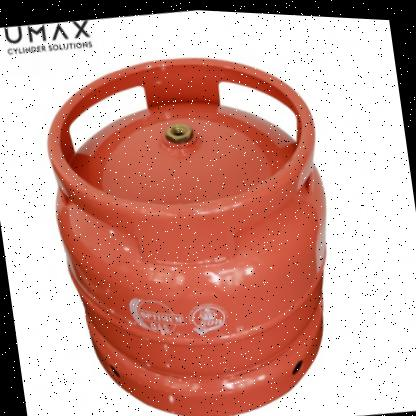gas-tank: (11, 13, 378, 415)
